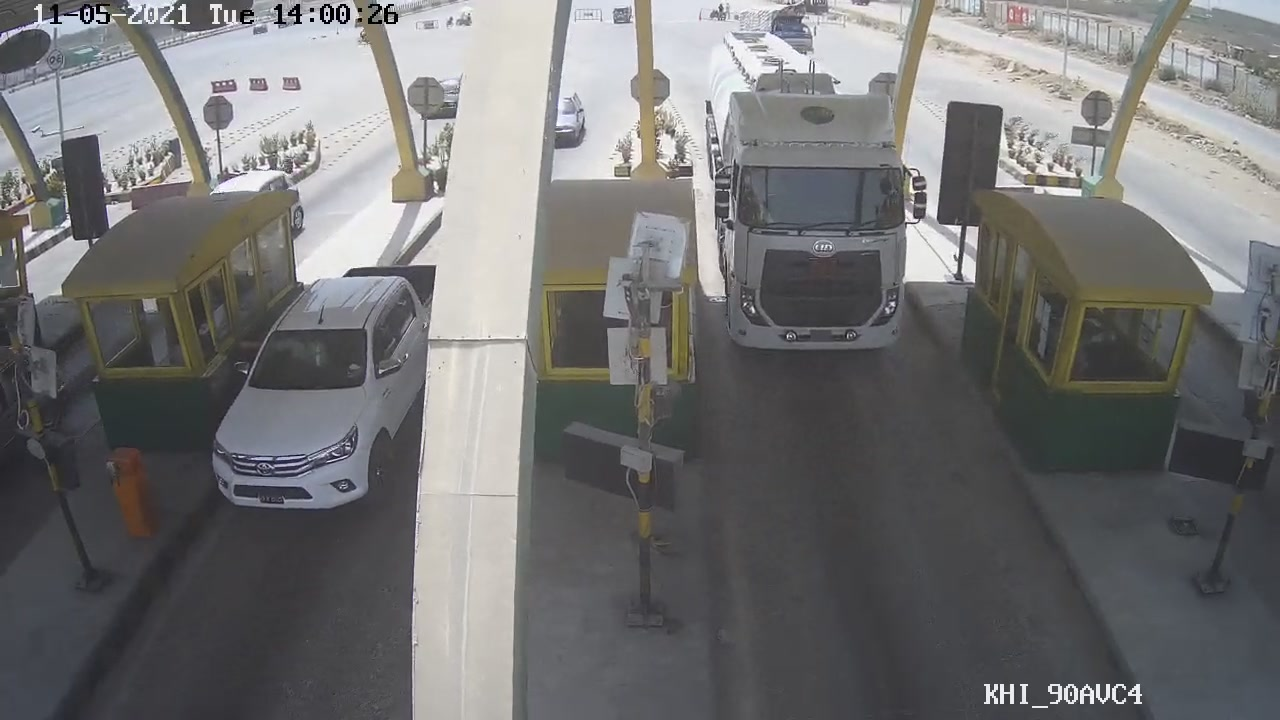F6: (697, 39, 932, 359)
